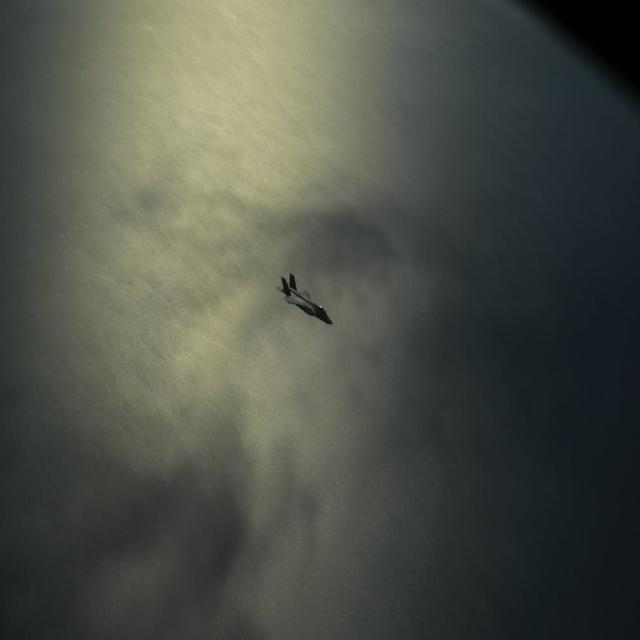MIL_Plane: (274, 272, 333, 326)
